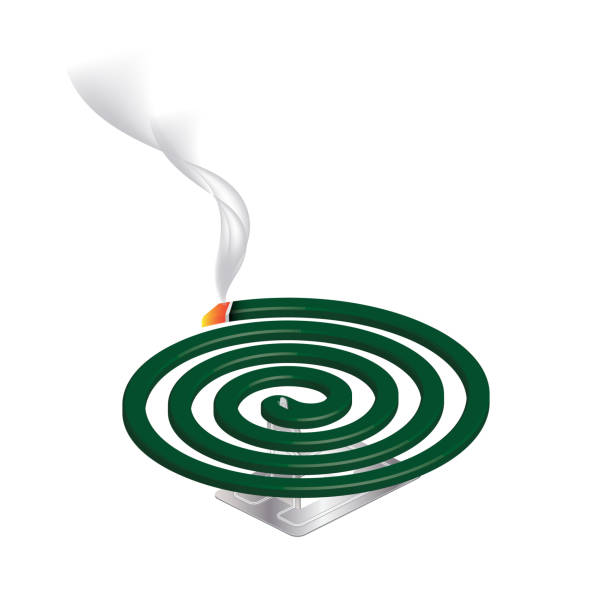Open-Flame-Hazard: (105, 271, 499, 549)
